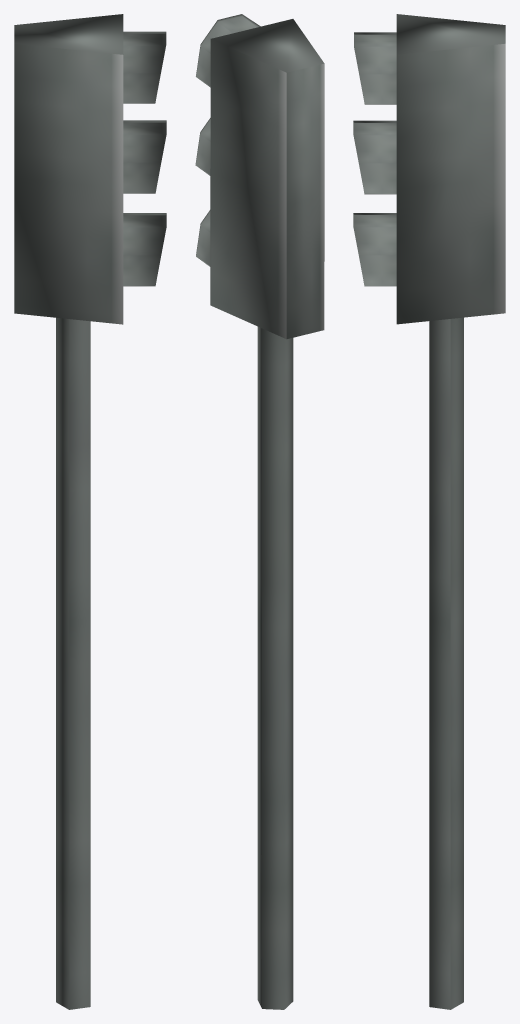
The model's file is semaforo_animado.glb.
3 renders of one model, left to right at view 1: azimuth 90°, elevation 25°; view 2: azimuth 210°, elevation 25°; view 3: azimuth 270°, elevation 25°, orthographic.
Visible parts, largest first — view 1: Cube; view 2: Cube; view 3: Cube.
Part boxes in pixels (x1,y1,x2,y2): Cube: (14,14,166,1009); Cube: (195,14,324,1009); Cube: (353,14,505,1009).
Bounding box in the file's own units: 0.8115 × 8.96 × 1.28.
1 material, 1 textured.
